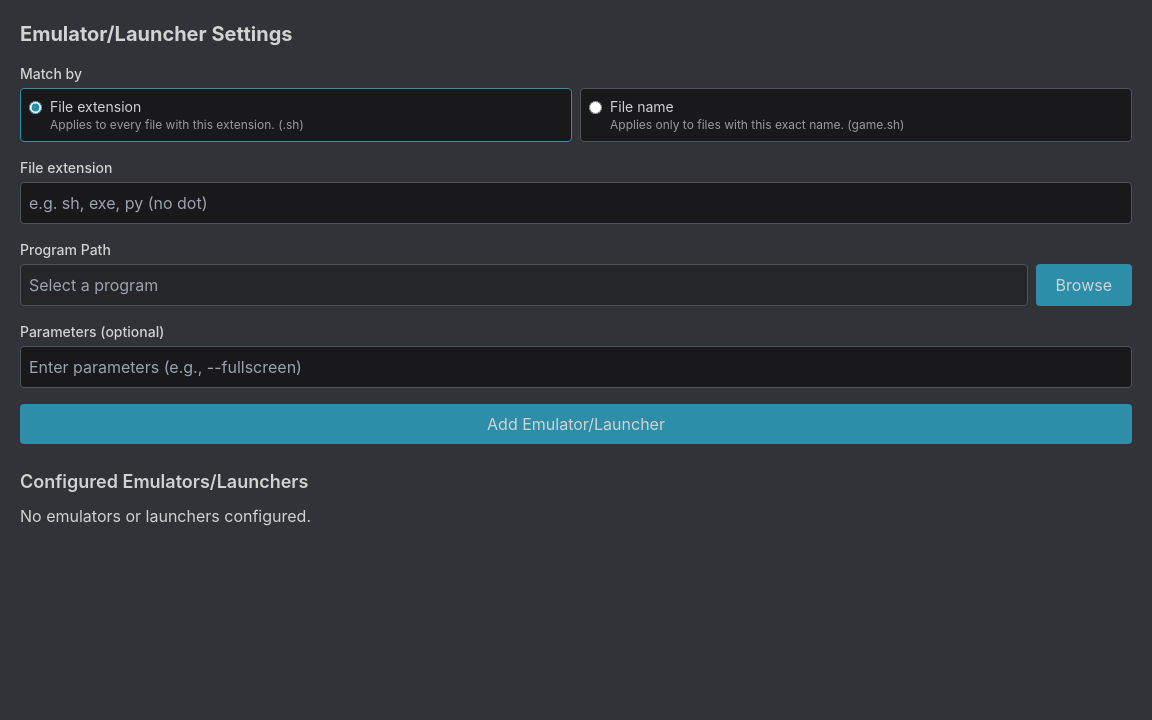
it: the file picker fills the name field with the base name only
Click the 2nd radio button: coordinates (596, 108) [589, 101, 602, 114]
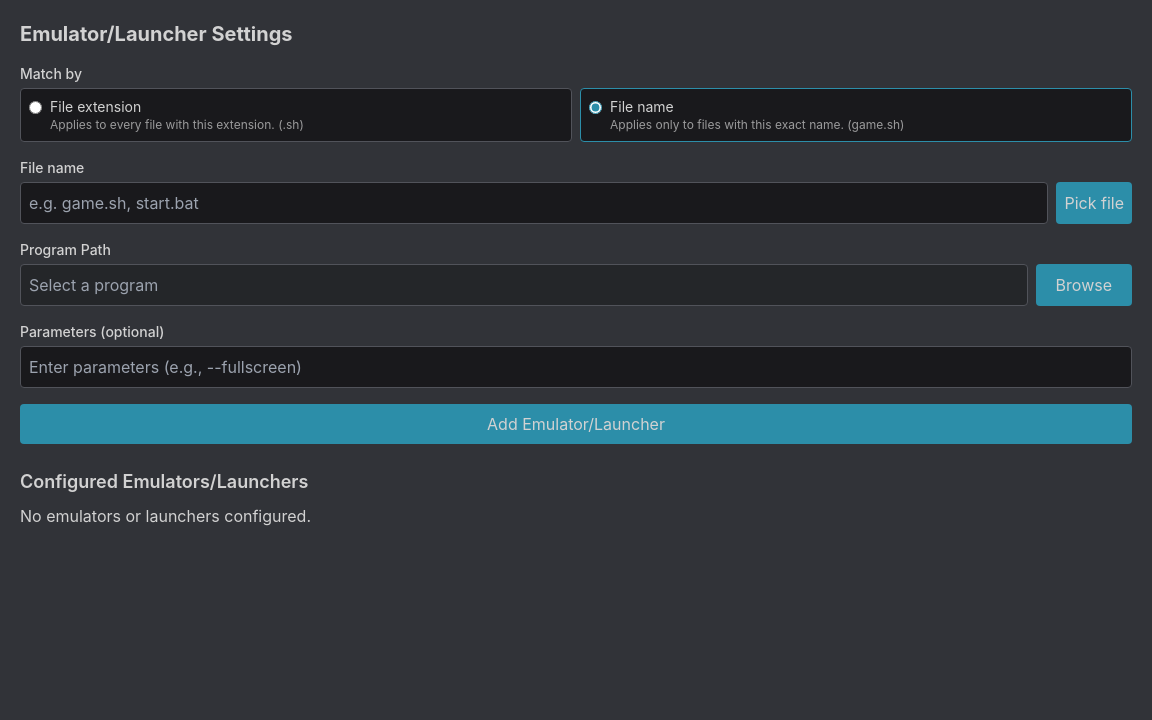
Click the button "Pick file": coordinates (1094, 203) [1056, 182, 1132, 224]
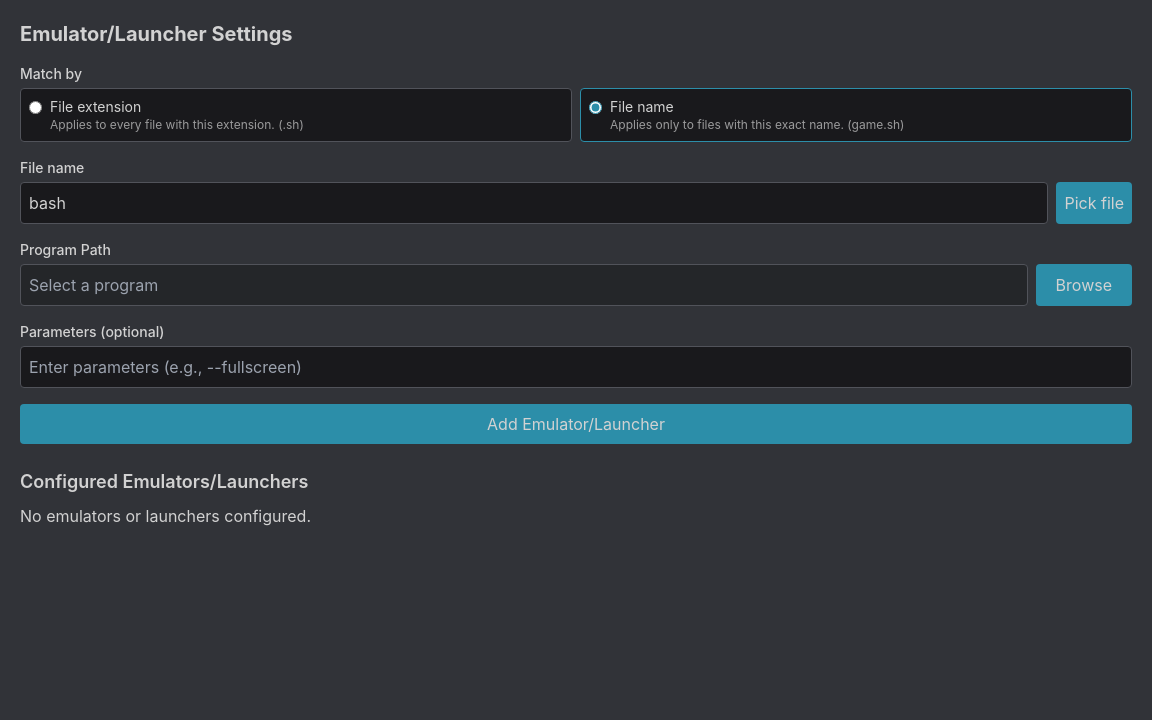
Check: the 1st field holds "bash", box [20, 182, 1048, 224]
